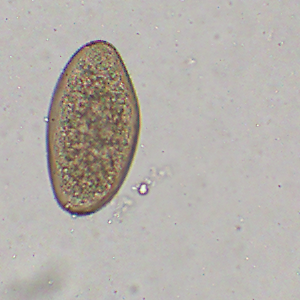Fasciola_hepatica_egg: (45, 39, 142, 217)
